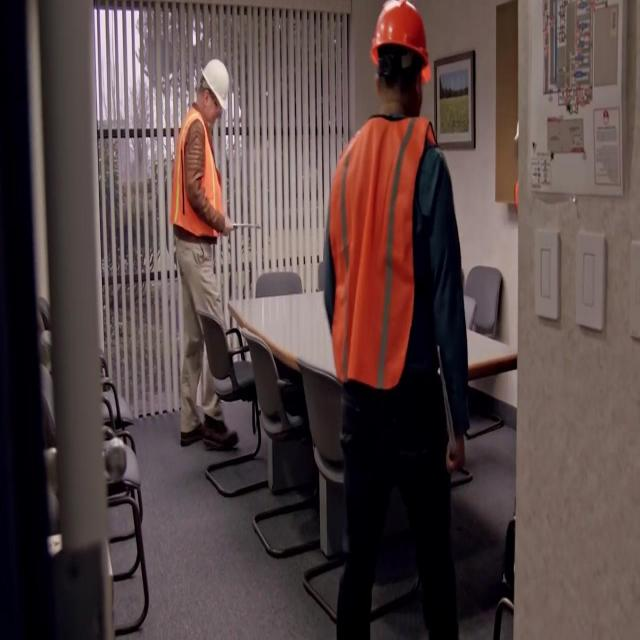Reflective-Jacket: (308, 108, 470, 408), (166, 106, 228, 250)
Safety-Helmet: (364, 0, 439, 85), (196, 50, 234, 116)
